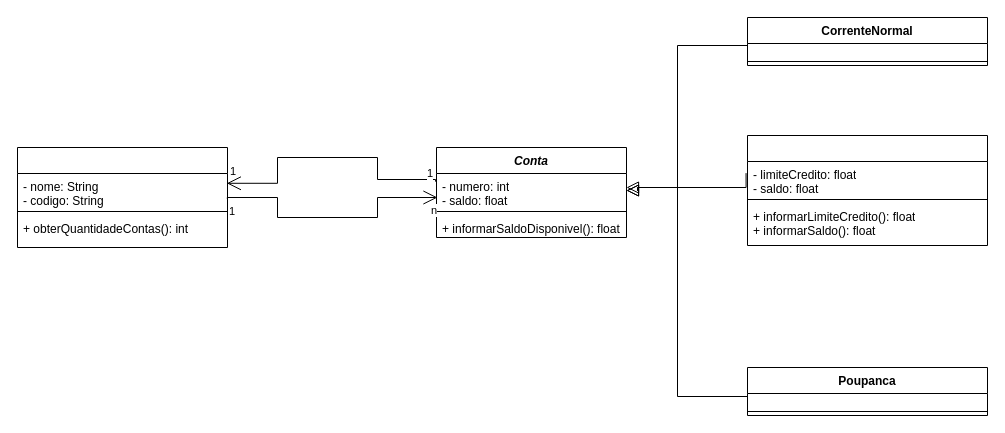
This 1005x433 diagram has some shape labels left out. Here are the shapes that lost their labels. From the top down, the box of each, then its label:
(16, 146, 228, 248): Cliente
(746, 134, 988, 246): CorrenteEspecial
